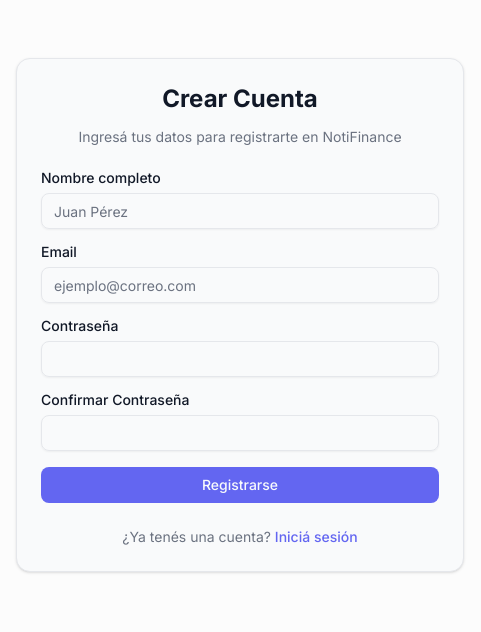
RegisterPage › shows validation errors for empty fields
Click the button "Registrarse" at {"x": 240, "y": 485}, box [41, 467, 439, 503]
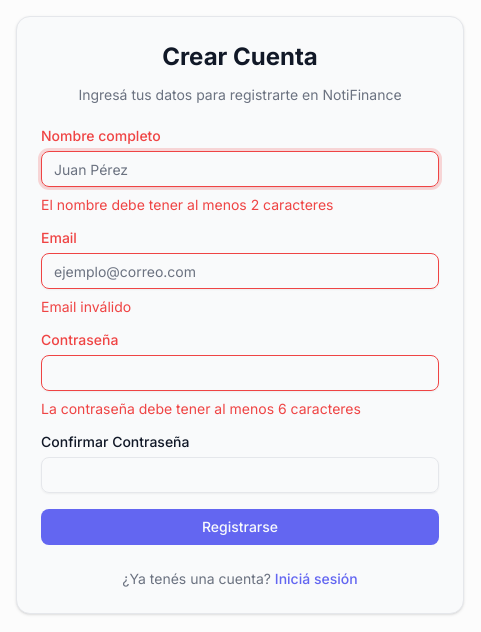
Check: the text "El nombre debe tener al menos 2 caracteres" is shown, box [41, 196, 334, 213]
Check: the text "Email inválido" is shown, box [41, 298, 131, 315]
Check: the text "La contraseña debe tener al menos 6 caracteres" is shown, box [41, 400, 361, 417]
